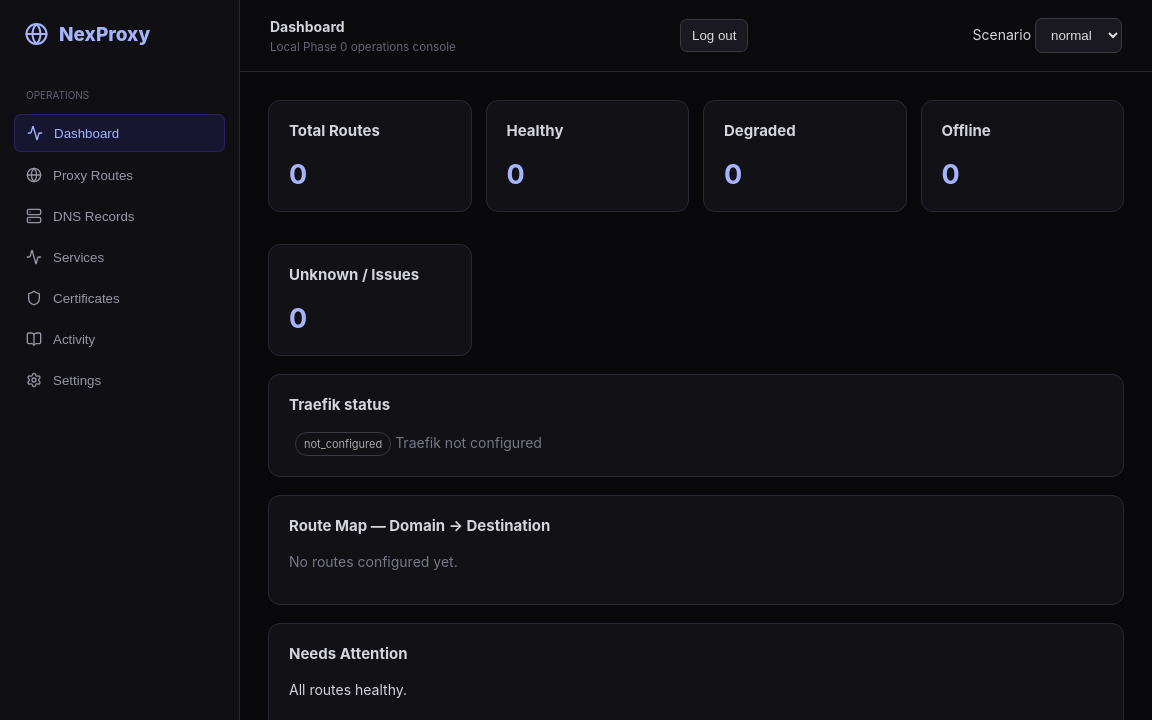
it: Traefik settings › loads and saves only the Traefik API URL
Click the button "Settings": {"x": 120, "y": 380} [14,362,225,398]
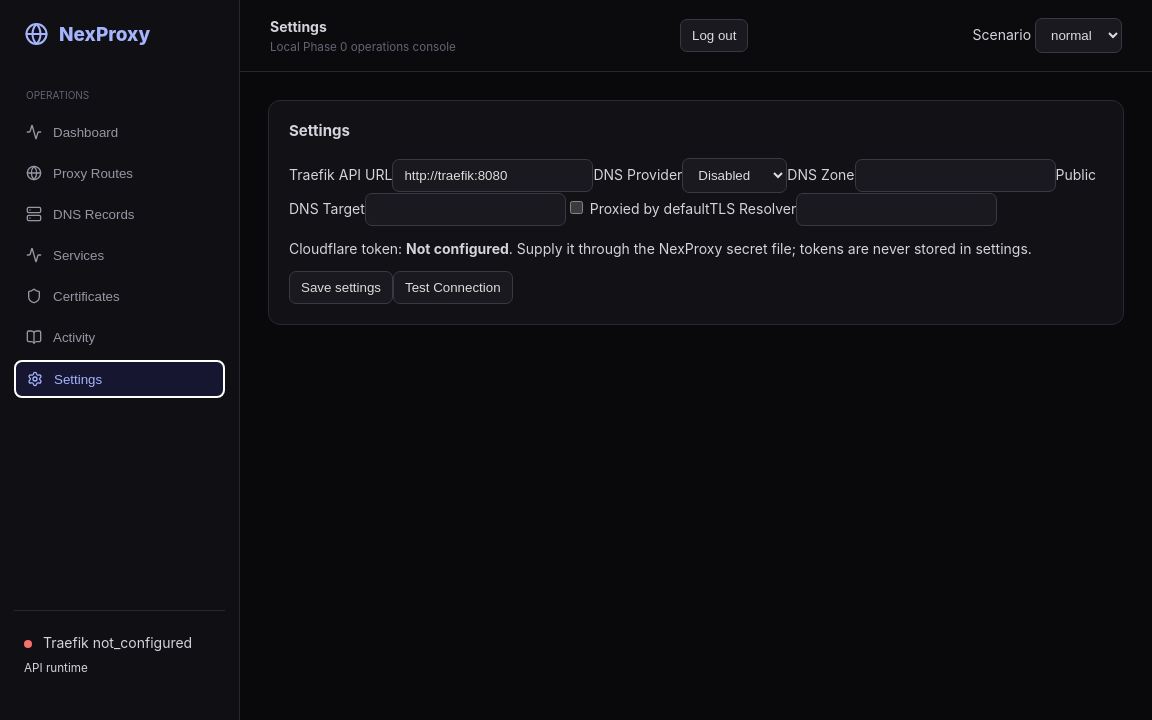
Expected: the field labelled "Traefik API URL" holds "http://traefik:8080"
In the field labelled "Traefik API URL": {"x": 493, "y": 176} [392,159,593,192], type "https://proxy.example/api"
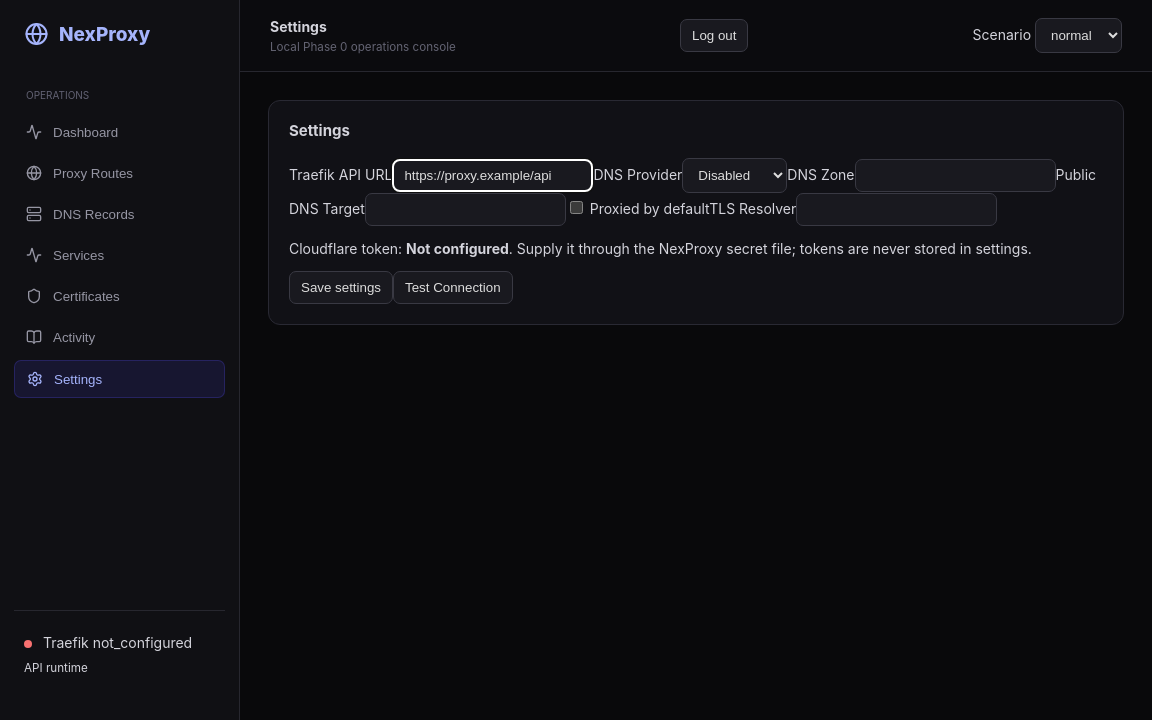
Click the button "Save settings": {"x": 341, "y": 288} [289,271,393,304]
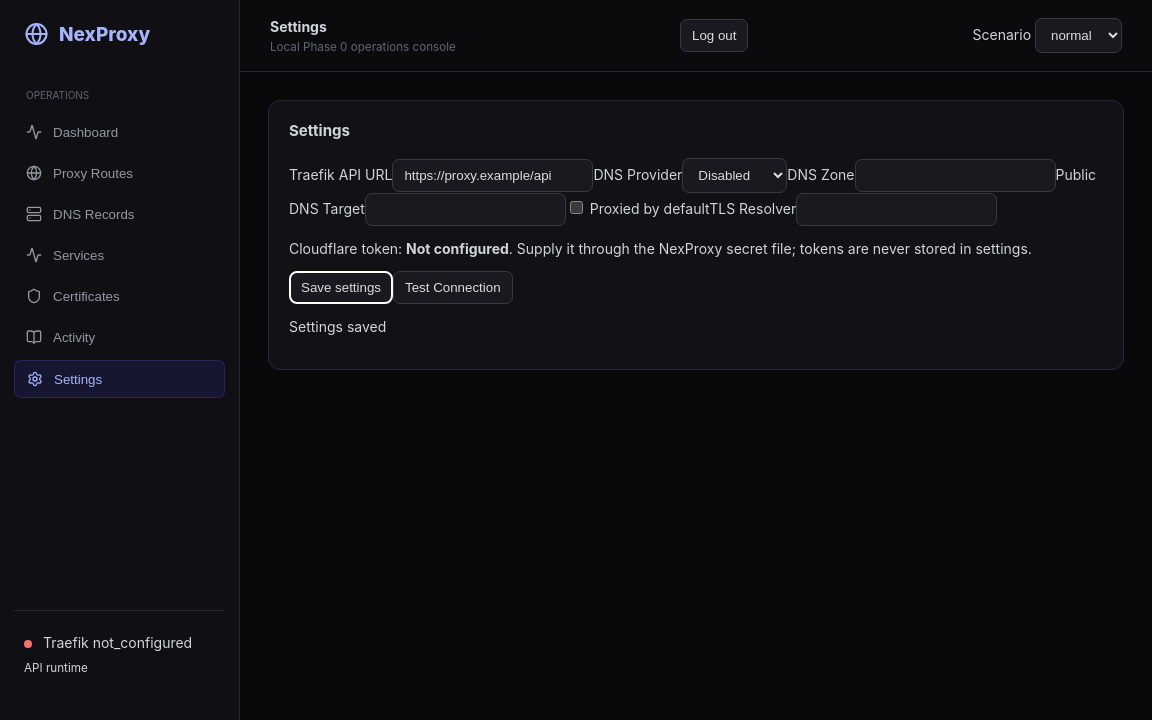
Expected: the text "Settings saved" is shown, [289,318,386,335]
